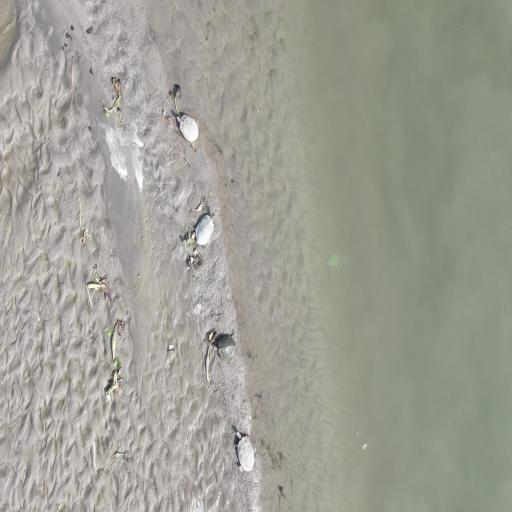turtle: (235, 429, 257, 474), (193, 208, 217, 247), (177, 112, 202, 147), (216, 328, 240, 364)
